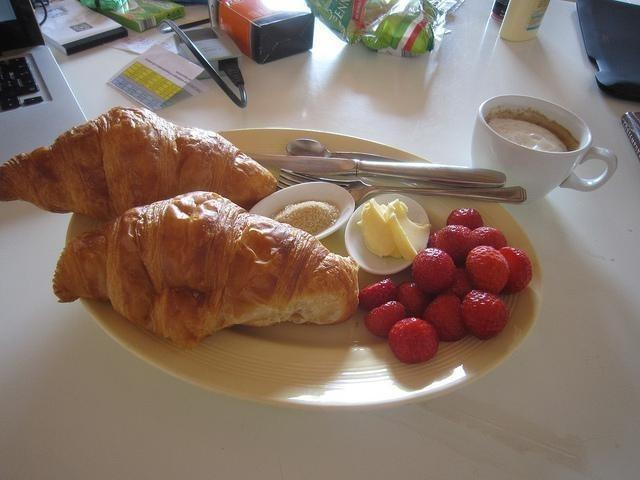cup-handle: (469, 97, 620, 206)
